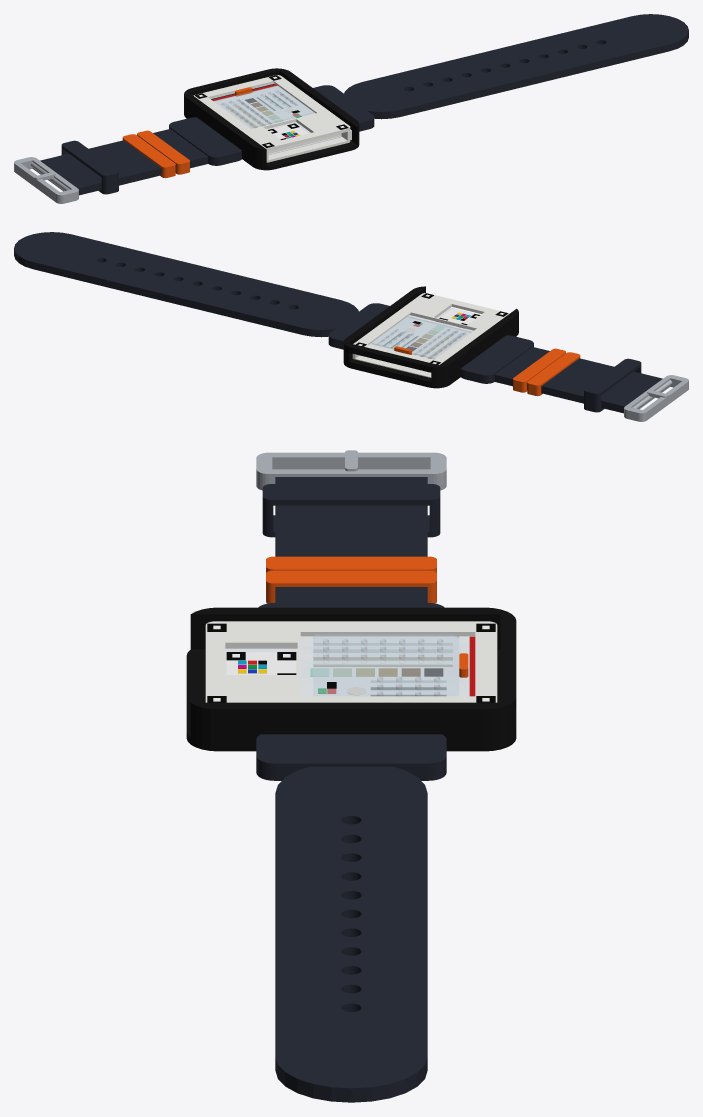
File: band.glb
3 renders of one model, top to bottom at view 1: azimuth 30°, elevation 25°; view 2: azimuth 150°, elevation 25°; view 3: azimuth 270°, elevation 25°, orthographic. The views are drawn at different scales.
Visible parts, largest first — view 1: 004 Wristband (reusable) / Strap A - holes (FKM), 012 Cradle (reusable) / Cradle shell (antistatic PC/PA12), 005 Wristband (reusable) / Strap B - buckle (FKM), 018 Frame (reusable, ~12 months) / Frame top plate, 029 Hole-shutter plate (reusable) / Shutter plate (clear UV-, 002 Wristband (reusable) / Strap lug (overmould), 045 Sensor card (one-time) / Laser-perforated clear PET hole, 035 Sensor card (one-time) / Rigid PET spacer (2.0 mm air ga, 006 Wristband (reusable) / Buckle frame 316L, 009 Wristband (reusable) / Keeper loop (FKM), 000 Wristband (reusable) / Strap lug (overmould), 010 Wristband (reusable) / Breakaway link half A (+2 smaller); view 2: 004 Wristband (reusable) / Strap A - holes (FKM), 012 Cradle (reusable) / Cradle shell (antistatic PC/PA12), 005 Wristband (reusable) / Strap B - buckle (FKM), 018 Frame (reusable, ~12 months) / Frame top plate, 029 Hole-shutter plate (reusable) / Shutter plate (clear UV-, 045 Sensor card (one-time) / Laser-perforated clear PET hole, 002 Wristband (reusable) / Strap lug (overmould), 035 Sensor card (one-time) / Rigid PET spacer (2.0 mm air ga, 006 Wristband (reusable) / Buckle frame 316L, 009 Wristband (reusable) / Keeper loop (FKM), 000 Wristband (reusable) / Strap lug (overmould), 010 Wristband (reusable) / Breakaway link half A (+3 smaller); view 3: 004 Wristband (reusable) / Strap A - holes (FKM), 012 Cradle (reusable) / Cradle shell (antistatic PC/PA12), 005 Wristband (reusable) / Strap B - buckle (FKM), 018 Frame (reusable, ~12 months) / Frame top plate, 029 Hole-shutter plate (reusable) / Shutter plate (clear UV-, 000 Wristband (reusable) / Strap lug (overmould), 045 Sensor card (one-time) / Laser-perforated clear PET hole, 035 Sensor card (one-time) / Rigid PET spacer (2.0 mm air ga, 006 Wristband (reusable) / Buckle frame 316L, 009 Wristband (reusable) / Keeper loop (FKM), 011 Wristband (reusable) / Breakaway link half B, 010 Wristband (reusable) / Breakaway link half A (+2 smaller).
Boxes of the visible parts, x1,y1,x2,y2 form: 004 Wristband (reusable) / Strap A - holes (FKM): (344, 14, 688, 119); 012 Cradle (reusable) / Cradle shell (antistatic PC/PA12): (184, 68, 359, 170); 005 Wristband (reusable) / Strap B - buckle (FKM): (40, 129, 208, 195); 018 Frame (reusable, ~12 months) / Frame top plate: (193, 75, 350, 151); 029 Hole-shutter plate (reusable) / Shutter plate (clear UV-: (213, 85, 313, 128); 002 Wristband (reusable) / Strap lug (overmould): (169, 117, 241, 165); 045 Sensor card (one-time) / Laser-perforated clear PET hole: (215, 86, 314, 133); 035 Sensor card (one-time) / Rigid PET spacer (2.0 mm air ga: (214, 86, 341, 153); 006 Wristband (reusable) / Buckle frame 316L: (14, 157, 78, 203); 009 Wristband (reusable) / Keeper loop (FKM): (61, 140, 118, 194); 000 Wristband (reusable) / Strap lug (overmould): (313, 85, 374, 131); 010 Wristband (reusable) / Breakaway link half A: (122, 134, 175, 178); 004 Wristband (reusable) / Strap A - holes (FKM): (14, 232, 358, 337); 012 Cradle (reusable) / Cradle shell (antistatic PC/PA12): (343, 286, 518, 388); 005 Wristband (reusable) / Strap B - buckle (FKM): (494, 347, 662, 413); 018 Frame (reusable, ~12 months) / Frame top plate: (353, 293, 509, 364); 029 Hole-shutter plate (reusable) / Shutter plate (clear UV-: (371, 316, 471, 359); 045 Sensor card (one-time) / Laser-perforated clear PET hole: (369, 308, 473, 359); 002 Wristband (reusable) / Strap lug (overmould): (461, 335, 533, 383); 035 Sensor card (one-time) / Rigid PET spacer (2.0 mm air ga: (369, 308, 473, 360); 006 Wristband (reusable) / Buckle frame 316L: (624, 375, 688, 421); 009 Wristband (reusable) / Keeper loop (FKM): (584, 358, 641, 412); 000 Wristband (reusable) / Strap lug (overmould): (328, 303, 389, 349); 010 Wristband (reusable) / Breakaway link half A: (527, 352, 580, 396); 004 Wristband (reusable) / Strap A - holes (FKM): (275, 766, 427, 1102); 012 Cradle (reusable) / Cradle shell (antistatic PC/PA12): (186, 607, 516, 751); 005 Wristband (reusable) / Strap B - buckle (FKM): (275, 477, 427, 602); 018 Frame (reusable, ~12 months) / Frame top plate: (205, 621, 497, 702); 029 Hole-shutter plate (reusable) / Shutter plate (clear UV-: (313, 634, 459, 696); 000 Wristband (reusable) / Strap lug (overmould): (256, 734, 446, 780); 045 Sensor card (one-time) / Laser-perforated clear PET hole: (225, 636, 469, 695); 035 Sensor card (one-time) / Rigid PET spacer (2.0 mm air ga: (225, 636, 474, 696); 006 Wristband (reusable) / Buckle frame 316L: (256, 452, 446, 490); 009 Wristband (reusable) / Keeper loop (FKM): (262, 484, 440, 537); 011 Wristband (reusable) / Breakaway link half B: (266, 570, 436, 603); 010 Wristband (reusable) / Breakaway link half A: (266, 556, 436, 572).
Size of the model in its own units: 0.236 by 0.0083 by 0.052.
